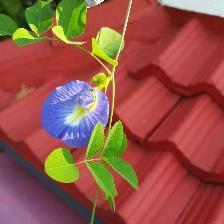shankupushpam: (42, 73, 114, 150)
